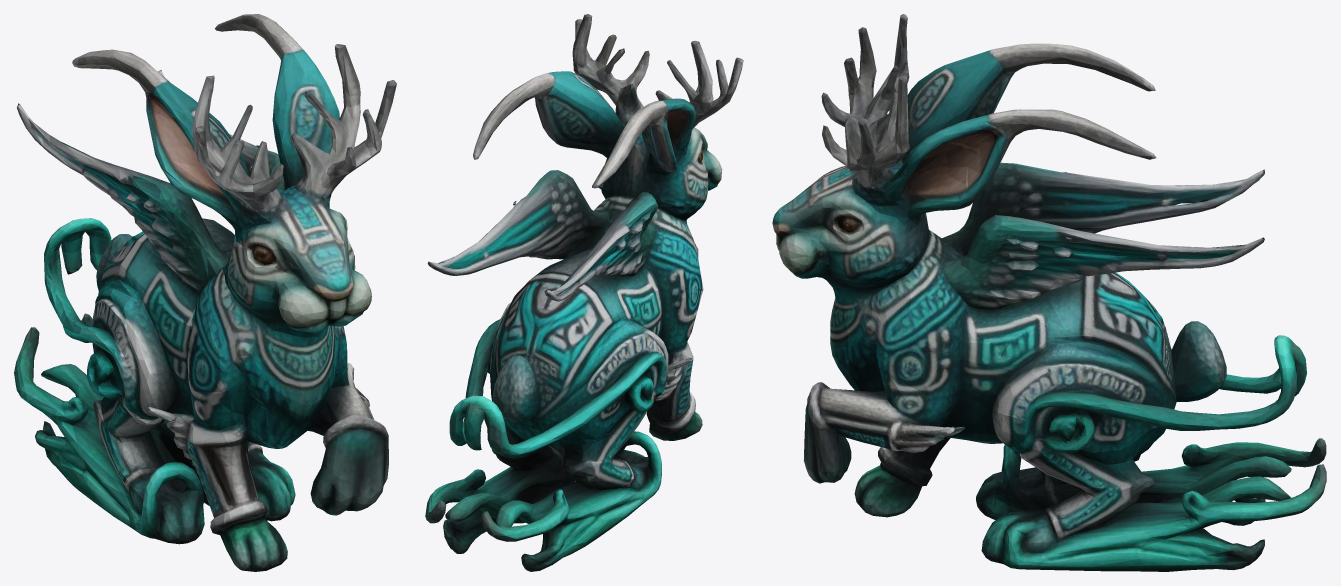
File: zephyrra__galeHare.glb
3 renders of one model, left to right at view 1: azimuth 30°, elevation 25°; view 2: azimuth 150°, elevation 25°; view 3: azimuth 270°, elevation 25°, orthographic. The views are drawn at different scales.
Parts seen in each view (by area): view 1: world; view 2: world; view 3: world.
Boxes of the visible parts, <box> form: world: <box>14,14,396,571</box>; world: <box>425,14,743,571</box>; world: <box>772,14,1326,571</box>.
Bounding box in the file's own units: 0.4111 × 0.9974 × 1.
1 material, 1 textured.
